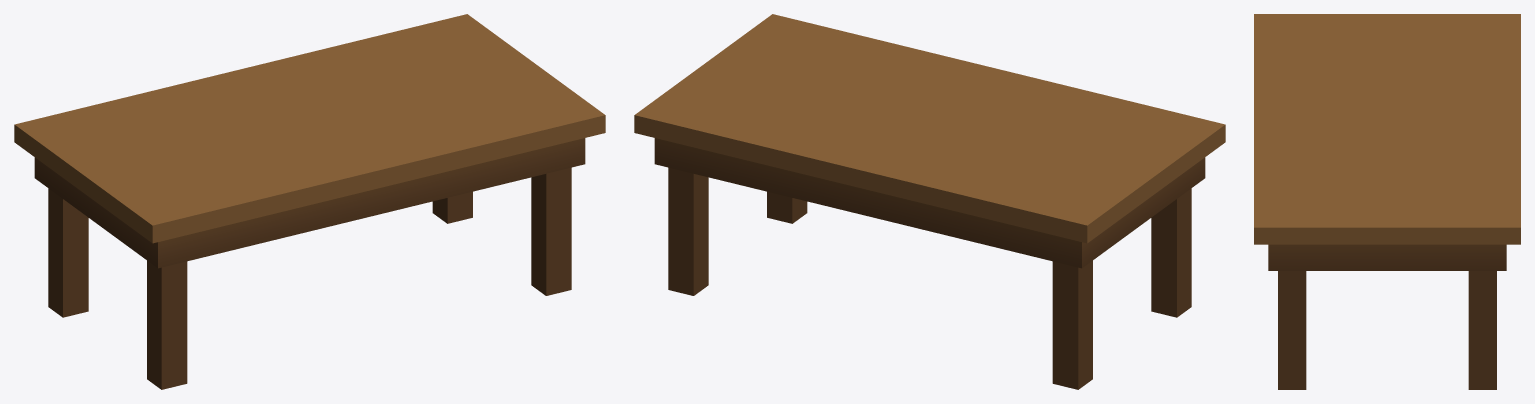
File: SM_CoffeeTable.fbx
3 views of the same model, side by side, from view 1: azimuth 30°, elevation 25°; view 2: azimuth 150°, elevation 25°; view 3: azimuth 270°, elevation 25° (orthographic). The views are drawn at different scales.
Visible parts, largest first — view 1: SM_CardCatalog.001; view 2: SM_CardCatalog.001; view 3: SM_CardCatalog.001.
Boxes of the visible parts, x1,y1,x2,y2 form: SM_CardCatalog.001: (14, 14, 605, 389); SM_CardCatalog.001: (634, 14, 1225, 389); SM_CardCatalog.001: (1254, 14, 1520, 389).
Size of the model in its own units: 1.06 by 0.3994 by 0.56.
